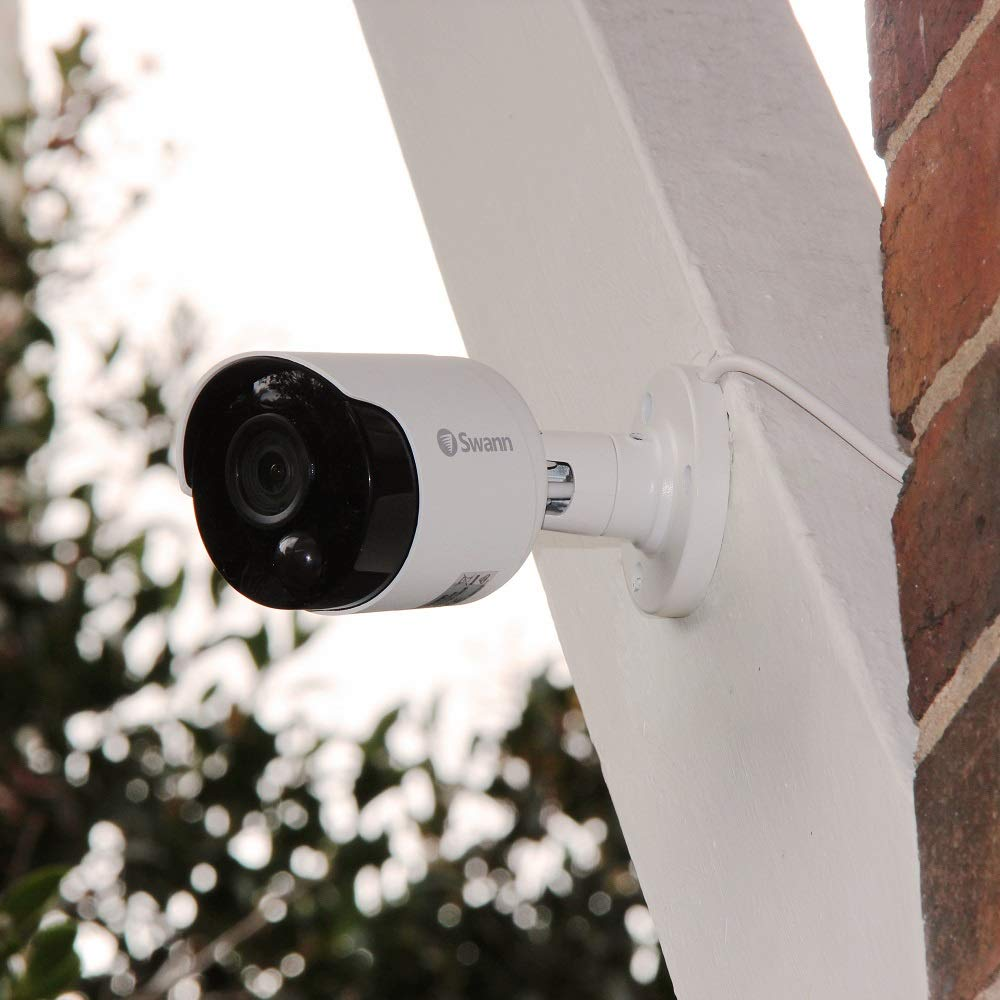Nest Cam: (171, 346, 736, 627)
